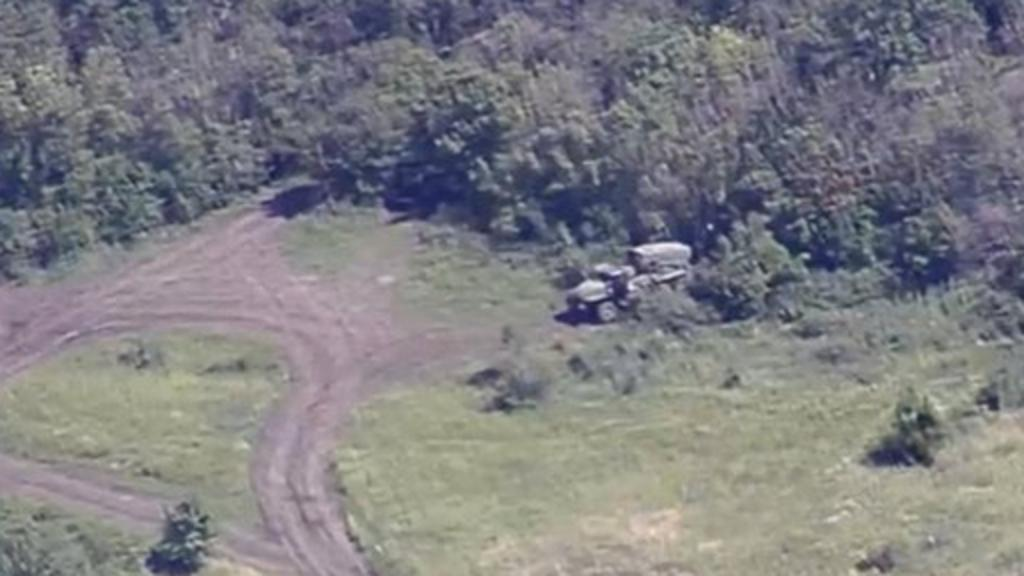MLRS: (558, 228, 704, 328)
